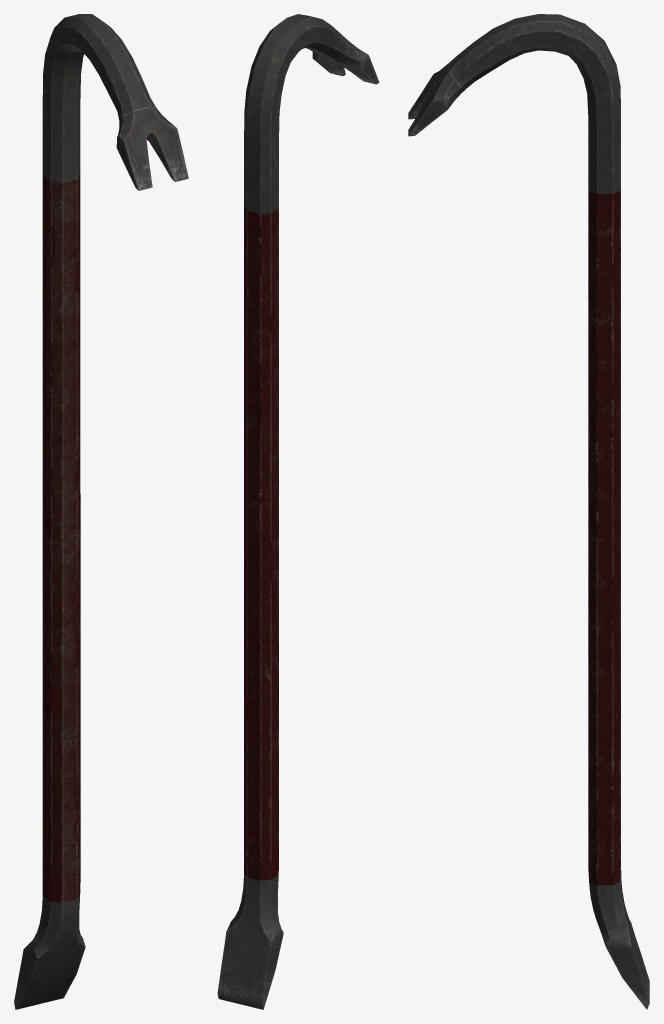
File: weapon_crowbar.glb
3 renders of one model, left to right at view 1: azimuth 30°, elevation 25°; view 2: azimuth 150°, elevation 25°; view 3: azimuth 270°, elevation 25°, orthographic. The views are drawn at different scales.
Visible parts, largest first — view 1: Cube_Material.002_0; view 2: Cube_Material.002_0; view 3: Cube_Material.002_0.
Boxes of the visible parts, x1,y1,x2,y2 form: Cube_Material.002_0: (14,14,188,1009); Cube_Material.002_0: (217,14,379,1009); Cube_Material.002_0: (408,14,649,1009).
Size of the model in its own units: 0.0415 by 0.76 by 0.1694.
1 material, 1 textured.
